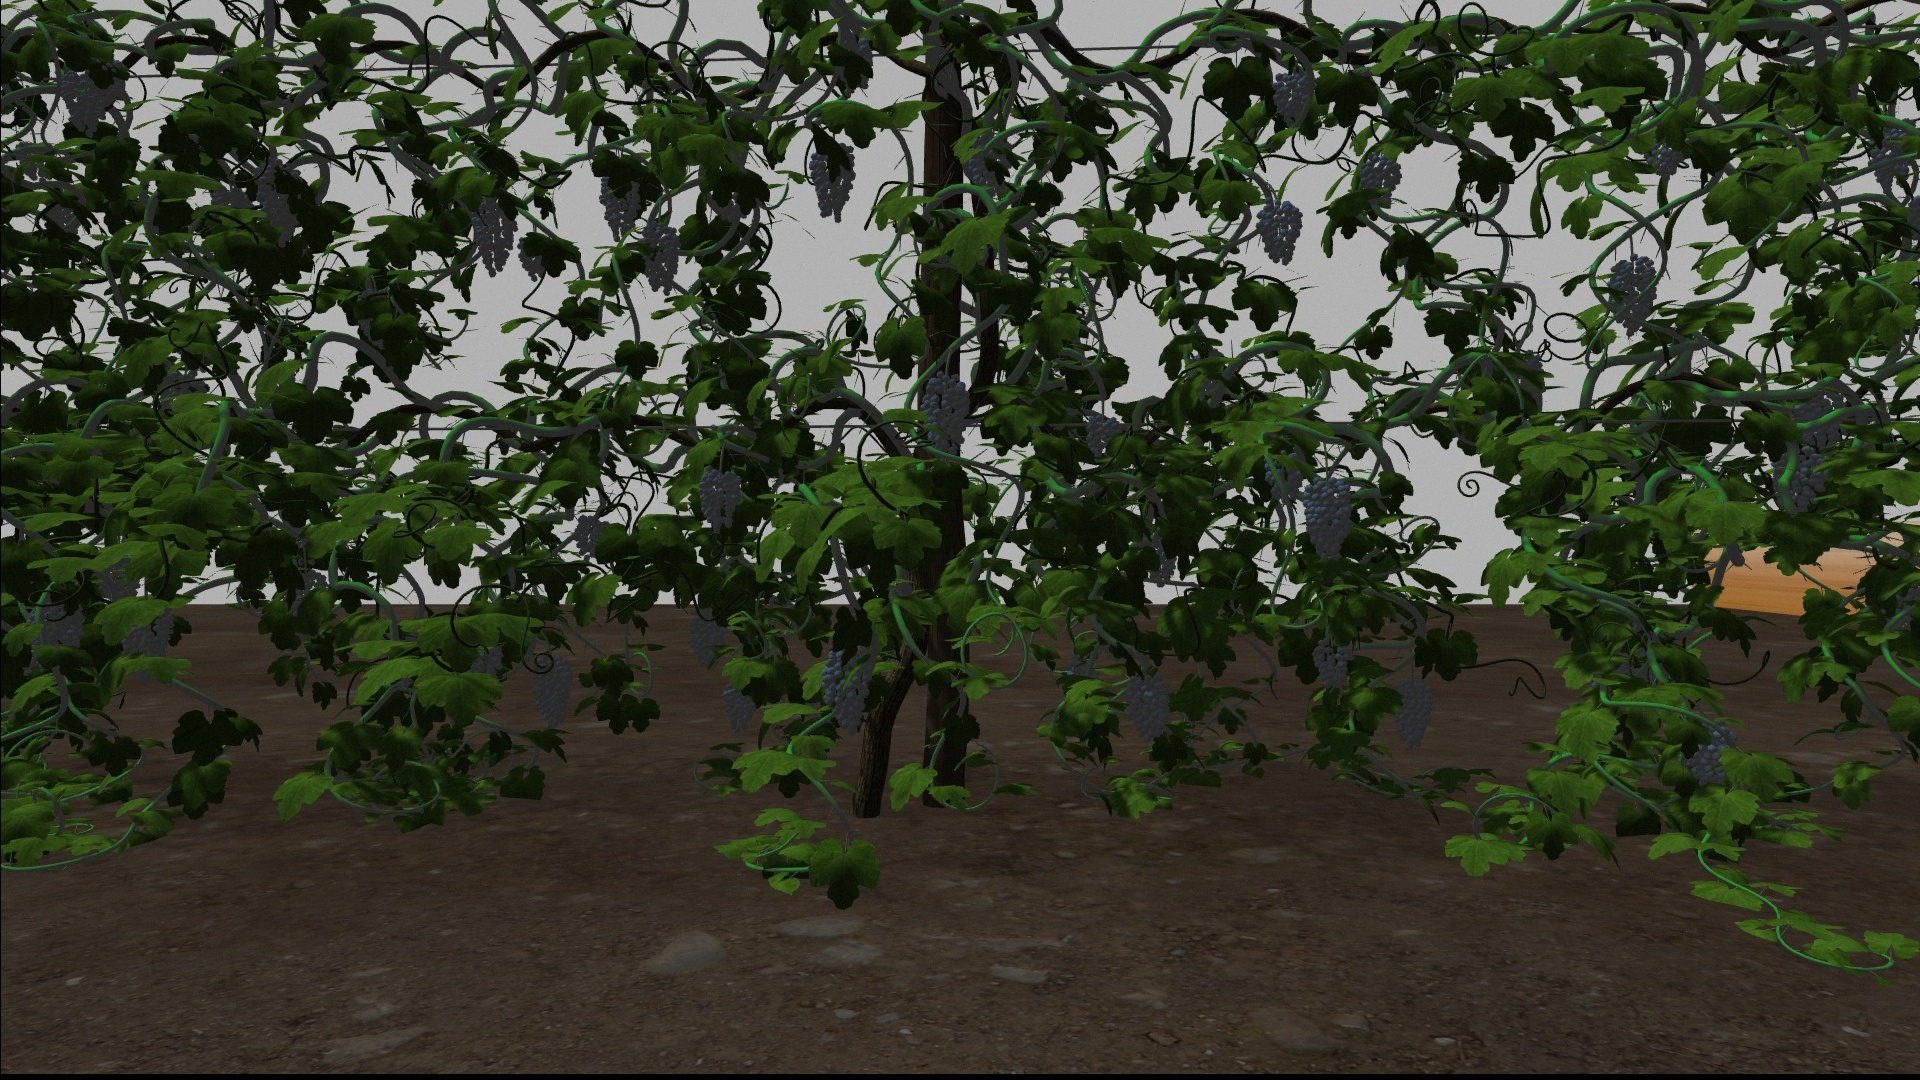grape: (1299, 475, 1352, 562), (919, 371, 971, 459), (1604, 255, 1659, 336), (819, 641, 866, 736), (26, 597, 84, 674), (256, 158, 303, 249), (471, 196, 520, 278), (121, 611, 174, 684), (808, 142, 855, 224), (1771, 446, 1824, 514), (1866, 117, 1913, 193), (1684, 720, 1738, 785), (1120, 675, 1171, 742), (529, 653, 574, 728), (1389, 680, 1433, 752), (1255, 200, 1302, 269), (696, 465, 742, 534), (640, 218, 679, 295), (596, 174, 640, 243), (61, 71, 102, 138), (967, 135, 1007, 199), (1791, 396, 1840, 448), (687, 603, 725, 669), (1273, 70, 1315, 127), (1356, 149, 1400, 200), (84, 57, 128, 107), (719, 679, 756, 737), (1311, 636, 1346, 692), (1084, 415, 1121, 458), (572, 516, 609, 556), (1646, 146, 1683, 175)
